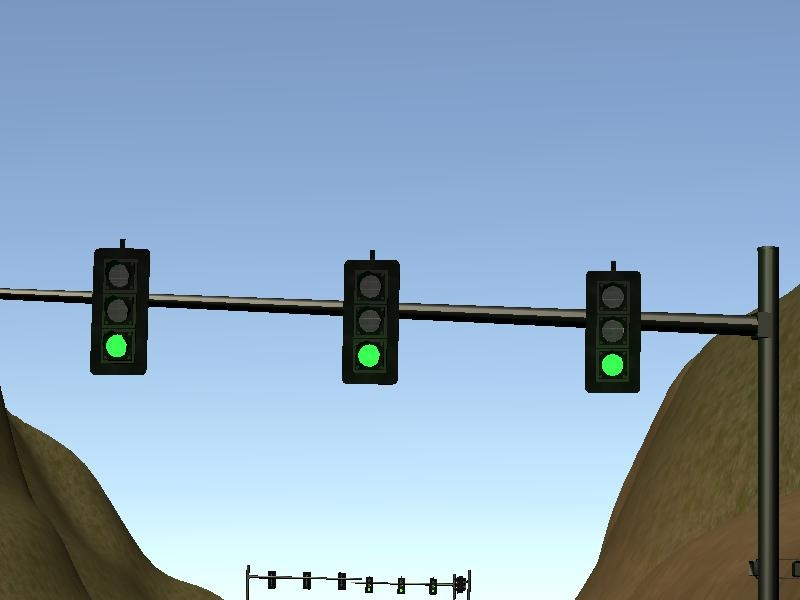green: (585, 264, 643, 395), (94, 245, 149, 376), (343, 258, 398, 388)
